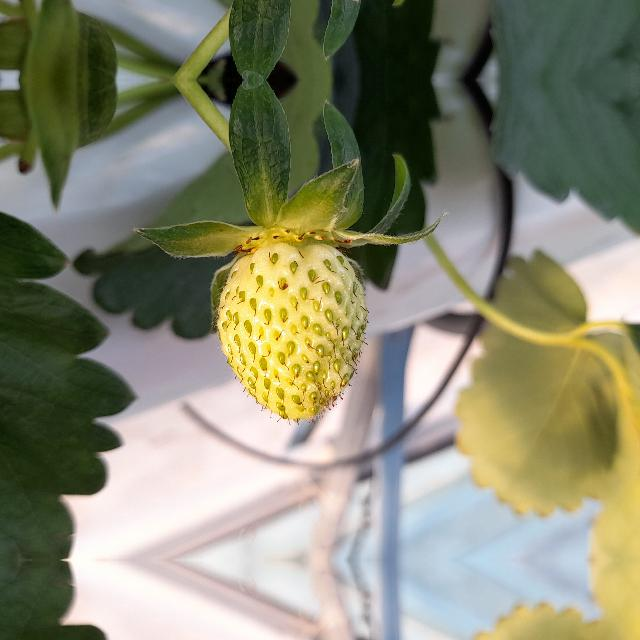Health_25: (212, 241, 368, 425)
